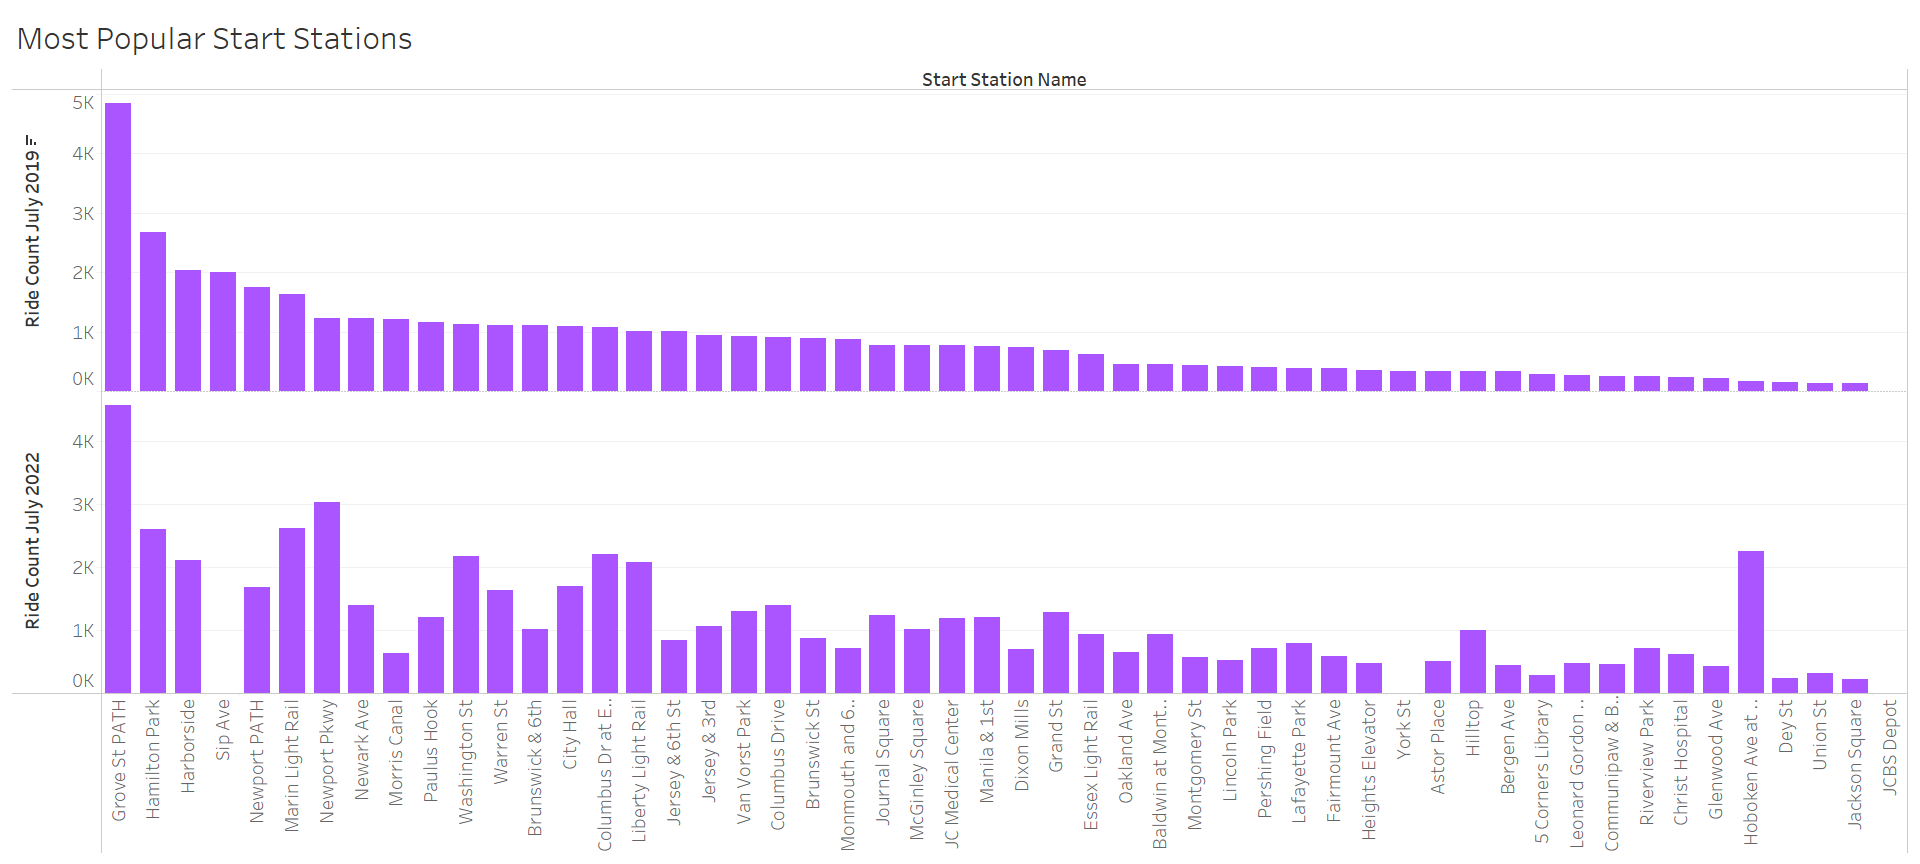

This screenshot's page, from the dashboard's own definition file:
{"tool":"tableau","page":{"name":"Popular Start Stations","canvas":[1000,1000],"units":"permille","ordinal":2},"visuals":[{"type":"worksheet","title":"Popular Start Stations Bar","mark":"Automatic","rows":["start station name","start_station_name"],"cols":["start station name"],"box":[5.1,9.8,989.8,817.9]},{"type":"text","box":[5.1,827.6,989.8,162.6]}]}

Visuals, with their boxes on the dashboard's canvas, which has no fixed pixel size, in thousandths of its width and height (x1, y1, x2, y2). These are canvas units, not pixel positions in the 1920x864 screenshot, which may show the page scaled, cropped or inside an application window:
"Popular Start Stations Bar" worksheet: [5, 10, 995, 828]
text: [5, 828, 995, 990]
